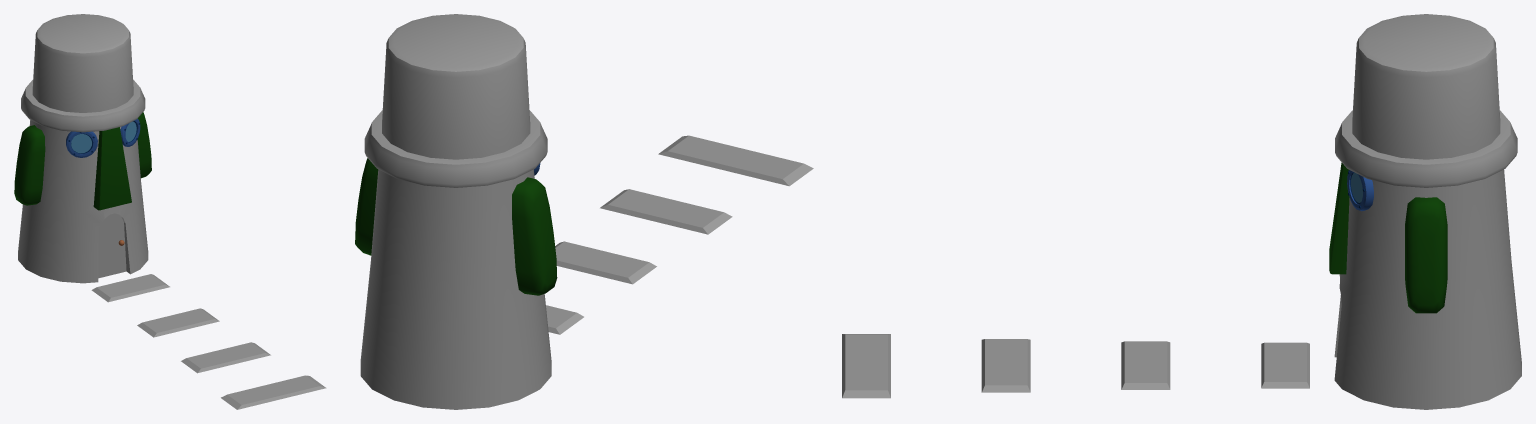
3 renders of one model, left to right at view 1: azimuth 30°, elevation 25°; view 2: azimuth 150°, elevation 25°; view 3: azimuth 270°, elevation 25°, orthographic. The views are drawn at different scales.
Parts seen in each view (by area): view 1: Squidward's_House_Malha.002, Stones_Malha.003; view 2: Squidward's_House_Malha.002, Stones_Malha.003; view 3: Squidward's_House_Malha.002, Stones_Malha.003.
Boxes of the visible parts, bbox=[...] form: Squidward's_House_Malha.002: bbox=[14, 14, 151, 283]; Stones_Malha.003: bbox=[91, 274, 326, 409]; Squidward's_House_Malha.002: bbox=[355, 14, 557, 409]; Stones_Malha.003: bbox=[546, 135, 813, 334]; Squidward's_House_Malha.002: bbox=[1329, 14, 1521, 409]; Stones_Malha.003: bbox=[842, 334, 1309, 398].
Size of what is drawn, in the model's own units: 5.58 by 9.15 by 17.21.
